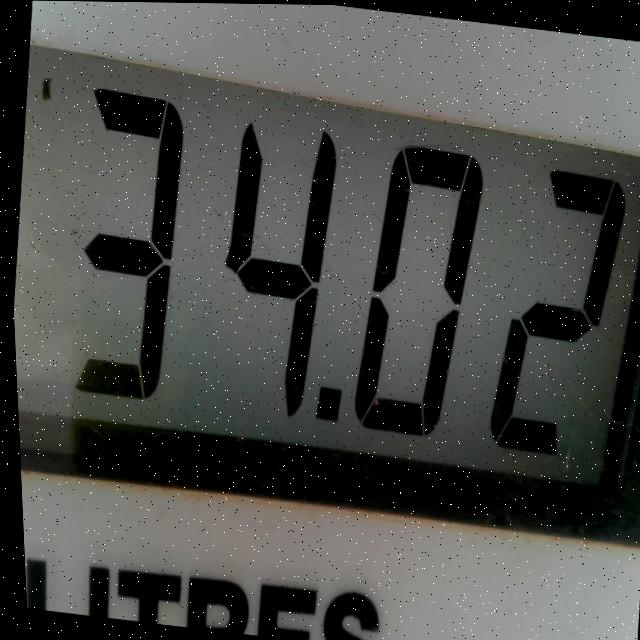.: (287, 374, 342, 460)
0: (463, 139, 640, 501), (330, 109, 500, 469)
3: (50, 74, 221, 428)
4: (184, 83, 352, 458)
